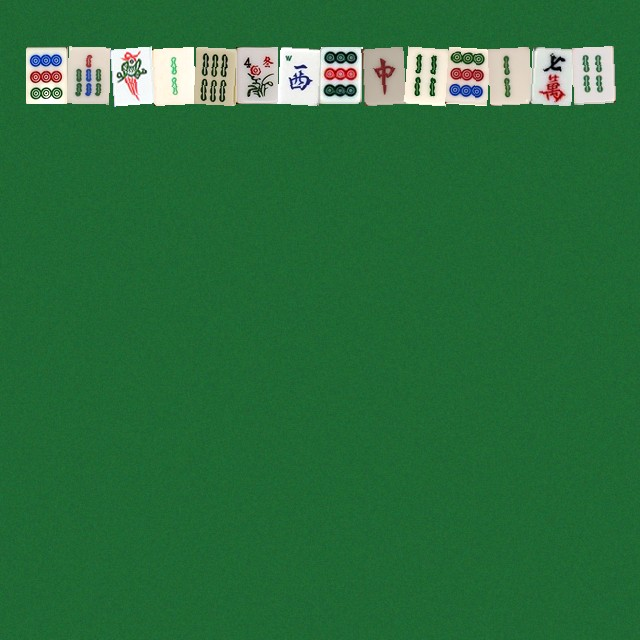tile: (25, 46, 67, 103), (67, 46, 109, 103), (109, 46, 151, 103), (151, 46, 193, 103), (193, 46, 235, 103), (235, 46, 277, 103), (277, 46, 319, 103), (319, 46, 361, 103), (361, 46, 403, 103), (403, 46, 445, 103), (445, 46, 487, 103), (487, 46, 529, 103), (529, 46, 571, 103), (571, 46, 613, 103)
